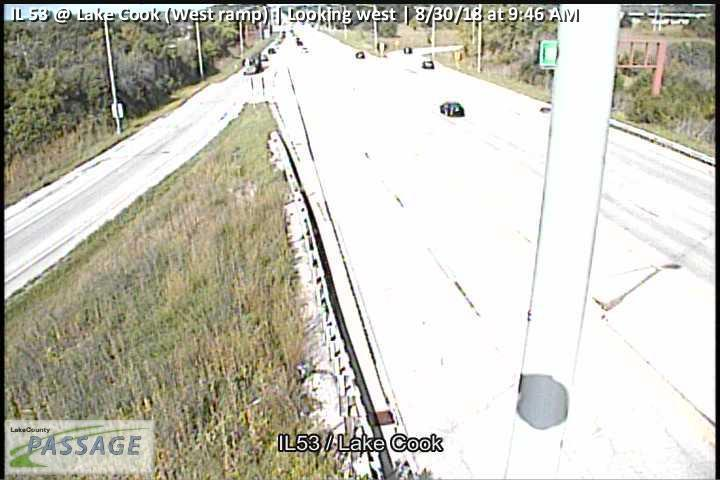Sedan: (440, 101, 465, 118), (422, 60, 435, 70)
